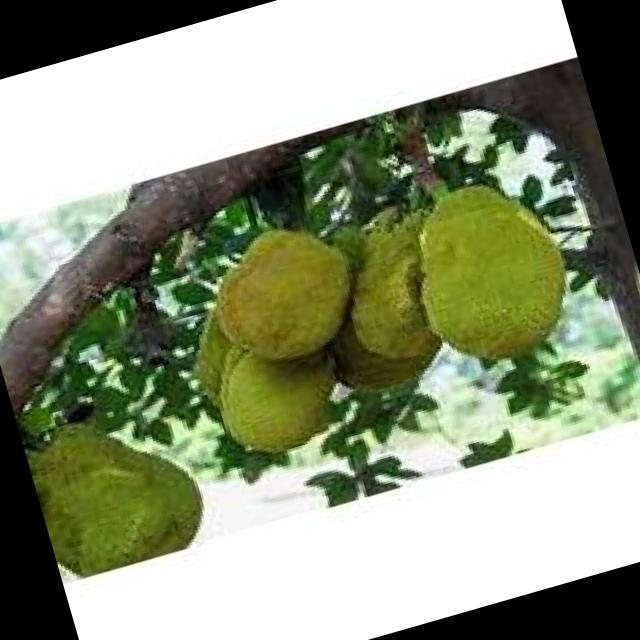Fruit: (140, 191, 413, 490), (380, 146, 604, 398)
